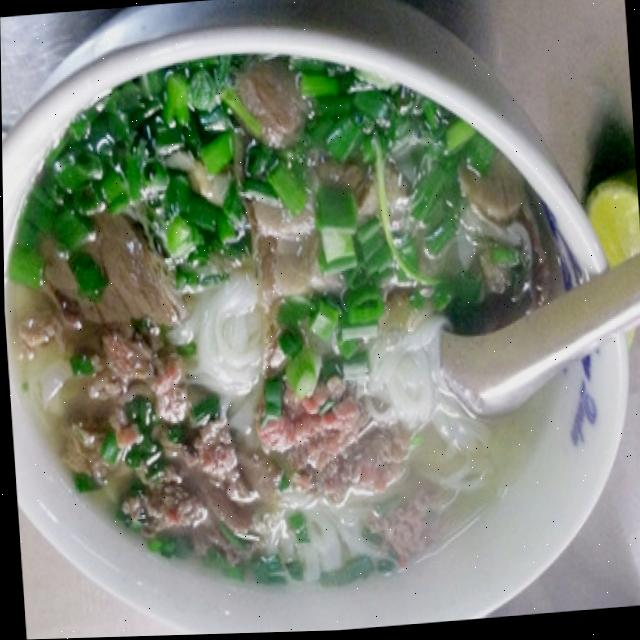面条主食: (0, 4, 629, 640)
